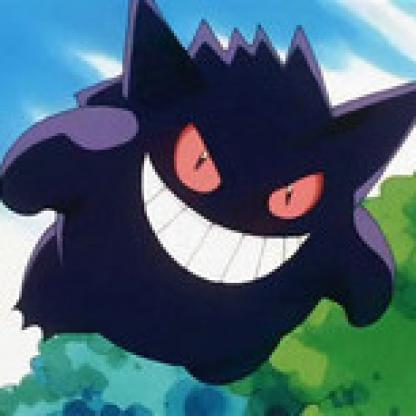Gengar: (7, 23, 415, 387)
